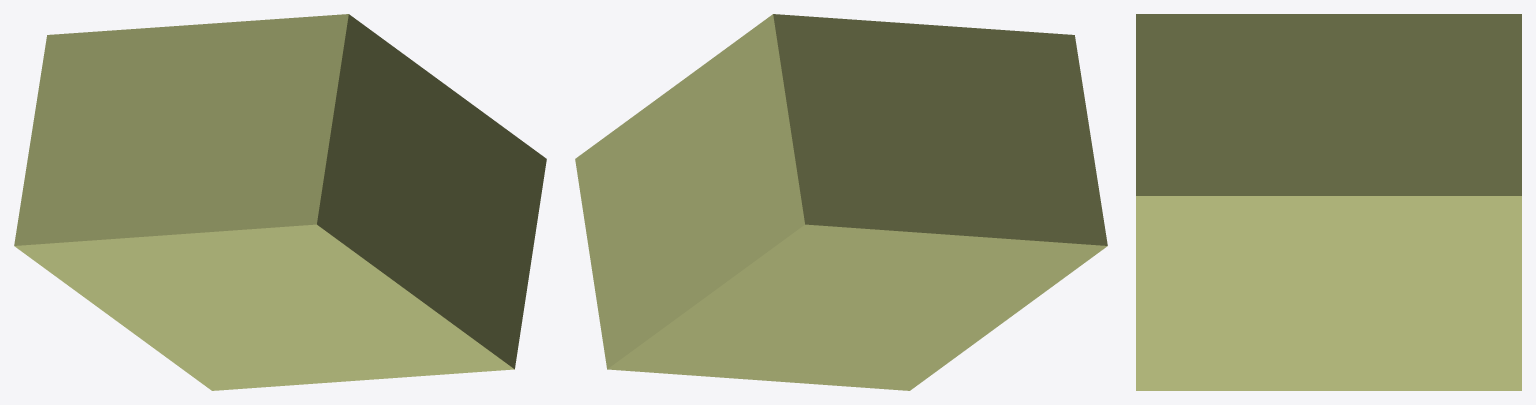
3 renders of one model, left to right at view 1: azimuth 30°, elevation 25°; view 2: azimuth 150°, elevation 25°; view 3: azimuth 270°, elevation 25°, orthographic. The views are drawn at different scales.
Visible parts, largest first — view 1: 0_1_0_0_1_0_2_1_2_2_3; view 2: 0_1_0_0_1_0_2_1_2_2_3; view 3: 0_1_0_0_1_0_2_1_2_2_3.
Boxes of the visible parts, left/top/right/bottom form: 0_1_0_0_1_0_2_1_2_2_3: left=14, top=14, right=546, bottom=390; 0_1_0_0_1_0_2_1_2_2_3: left=575, top=14, right=1107, bottom=390; 0_1_0_0_1_0_2_1_2_2_3: left=1136, top=14, right=1521, bottom=390.
Bounding box in the file's own units: 8.78 × 6.4 × 9.
